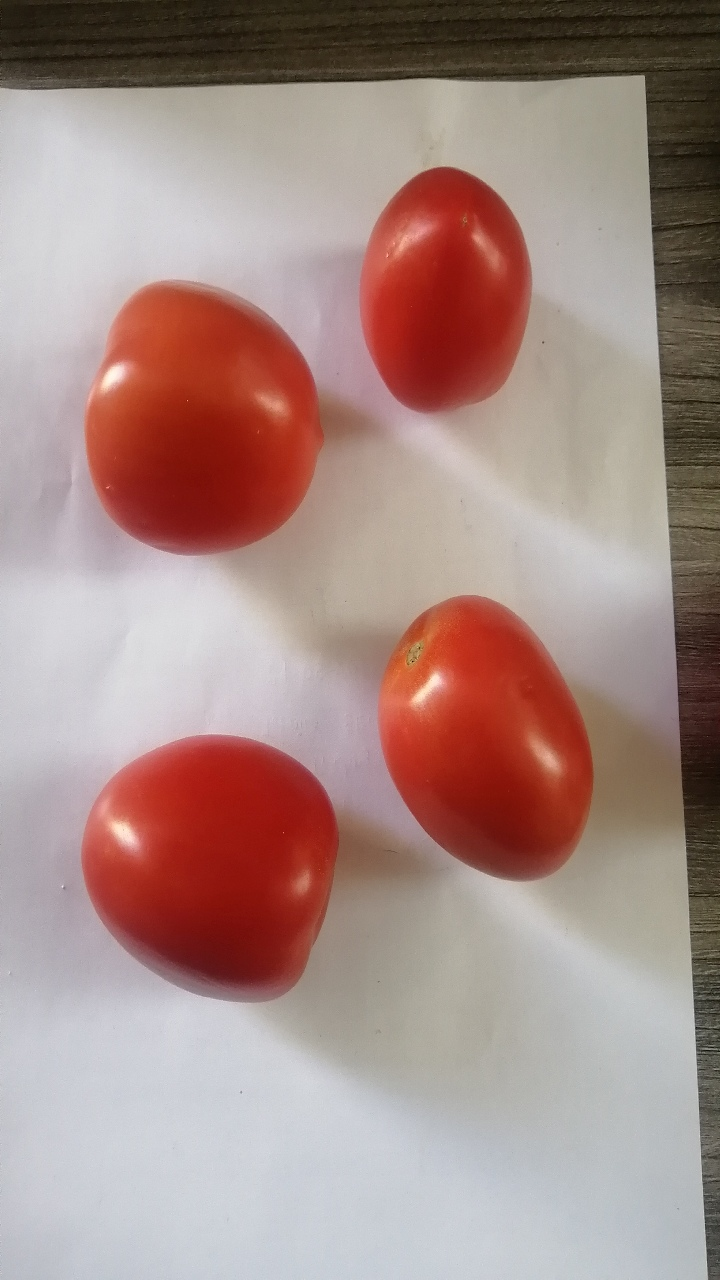tomateRojo: (54, 700, 360, 1032), (54, 263, 338, 585), (346, 563, 611, 888), (332, 154, 535, 428)
